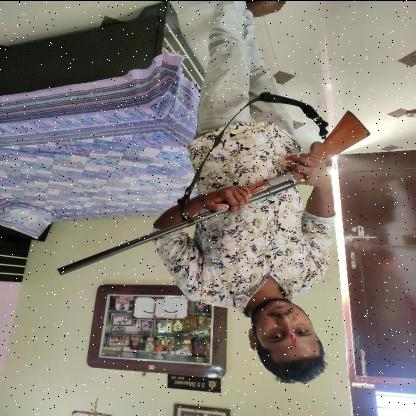rifle: (53, 108, 374, 276)
